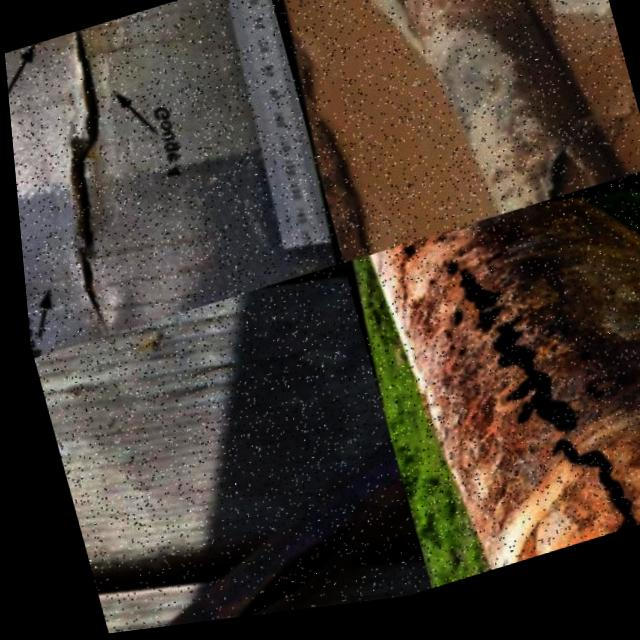crack: (219, 511, 372, 624), (56, 31, 102, 337)
hole: (529, 426, 638, 542), (478, 361, 585, 466), (473, 312, 547, 392), (442, 274, 499, 328), (468, 248, 508, 290), (461, 308, 500, 347), (430, 307, 466, 343), (424, 258, 462, 292), (569, 384, 599, 415), (388, 250, 420, 275), (560, 349, 586, 377), (442, 346, 464, 370), (425, 241, 446, 257), (418, 281, 436, 299), (435, 348, 451, 362), (446, 254, 461, 268), (432, 336, 447, 349)
rupture: (516, 118, 625, 217)
